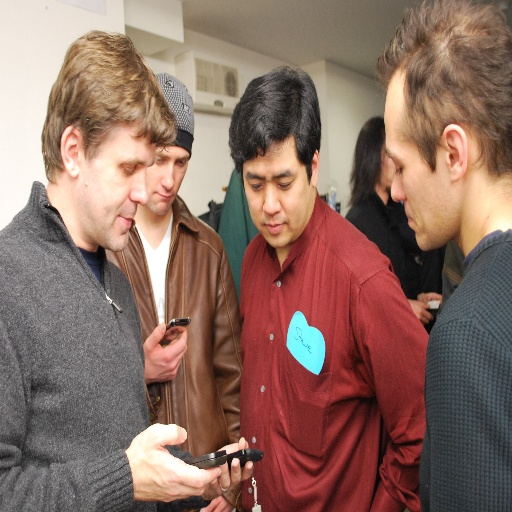hand: (117, 421, 209, 499), (141, 321, 188, 384), (212, 436, 254, 500), (405, 296, 436, 328), (203, 494, 233, 511), (418, 289, 442, 304)
